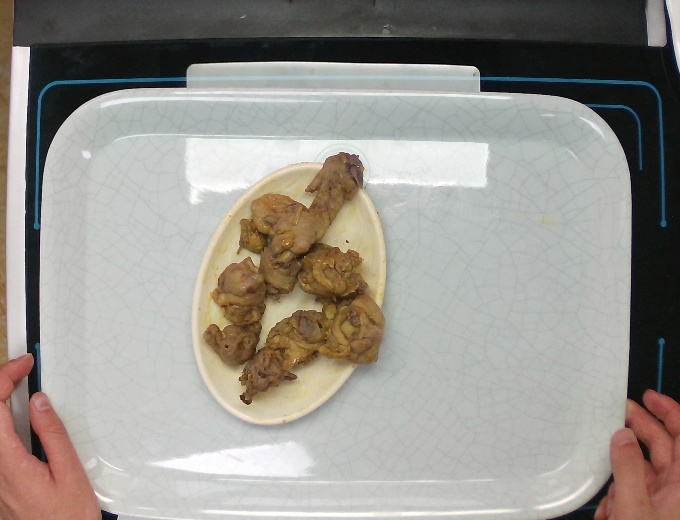JYsf-Tuo_Yuan_Wan: (186, 147, 399, 434)
